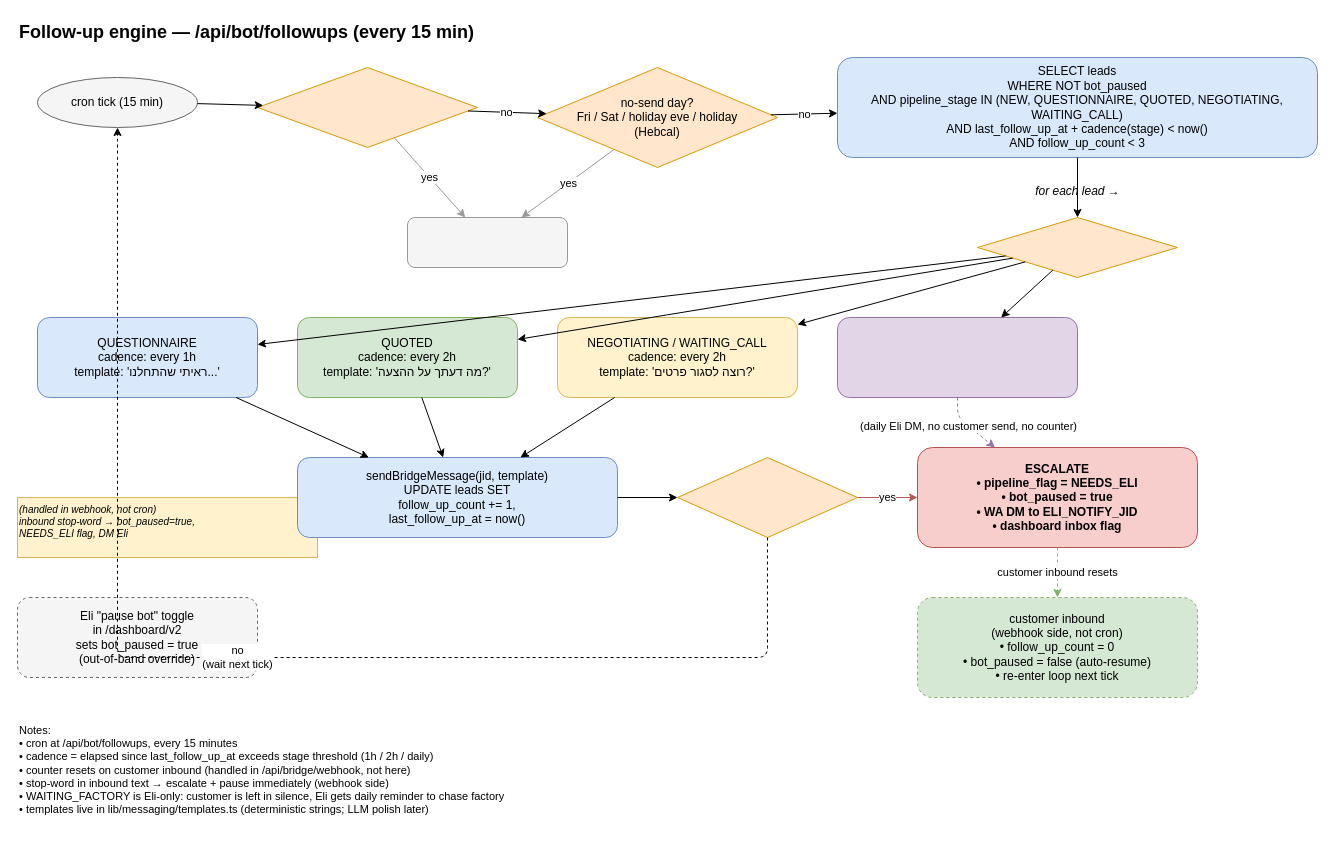
The diagram is 1335 pixels wide and 854 high, and some of its shapes have lost their labels. Here are the shapes that lost their labels. From the top down, the centre of each, then its label:
At pixel 367 107: "quiet hours? 21:00 → 09:00 Asia/Jerusalem".
At pixel 487 242: "skip tick (do nothing)".
At pixel 1077 247: "branch on lead.pipeline_stage".
At pixel 957 357: "WAITING_FACTORY cadence: daily ELI-ONLY DM 'ליד X מחכה Y ימים לציטוט'".
At pixel 767 497: "follow_up_count >= 3?".
